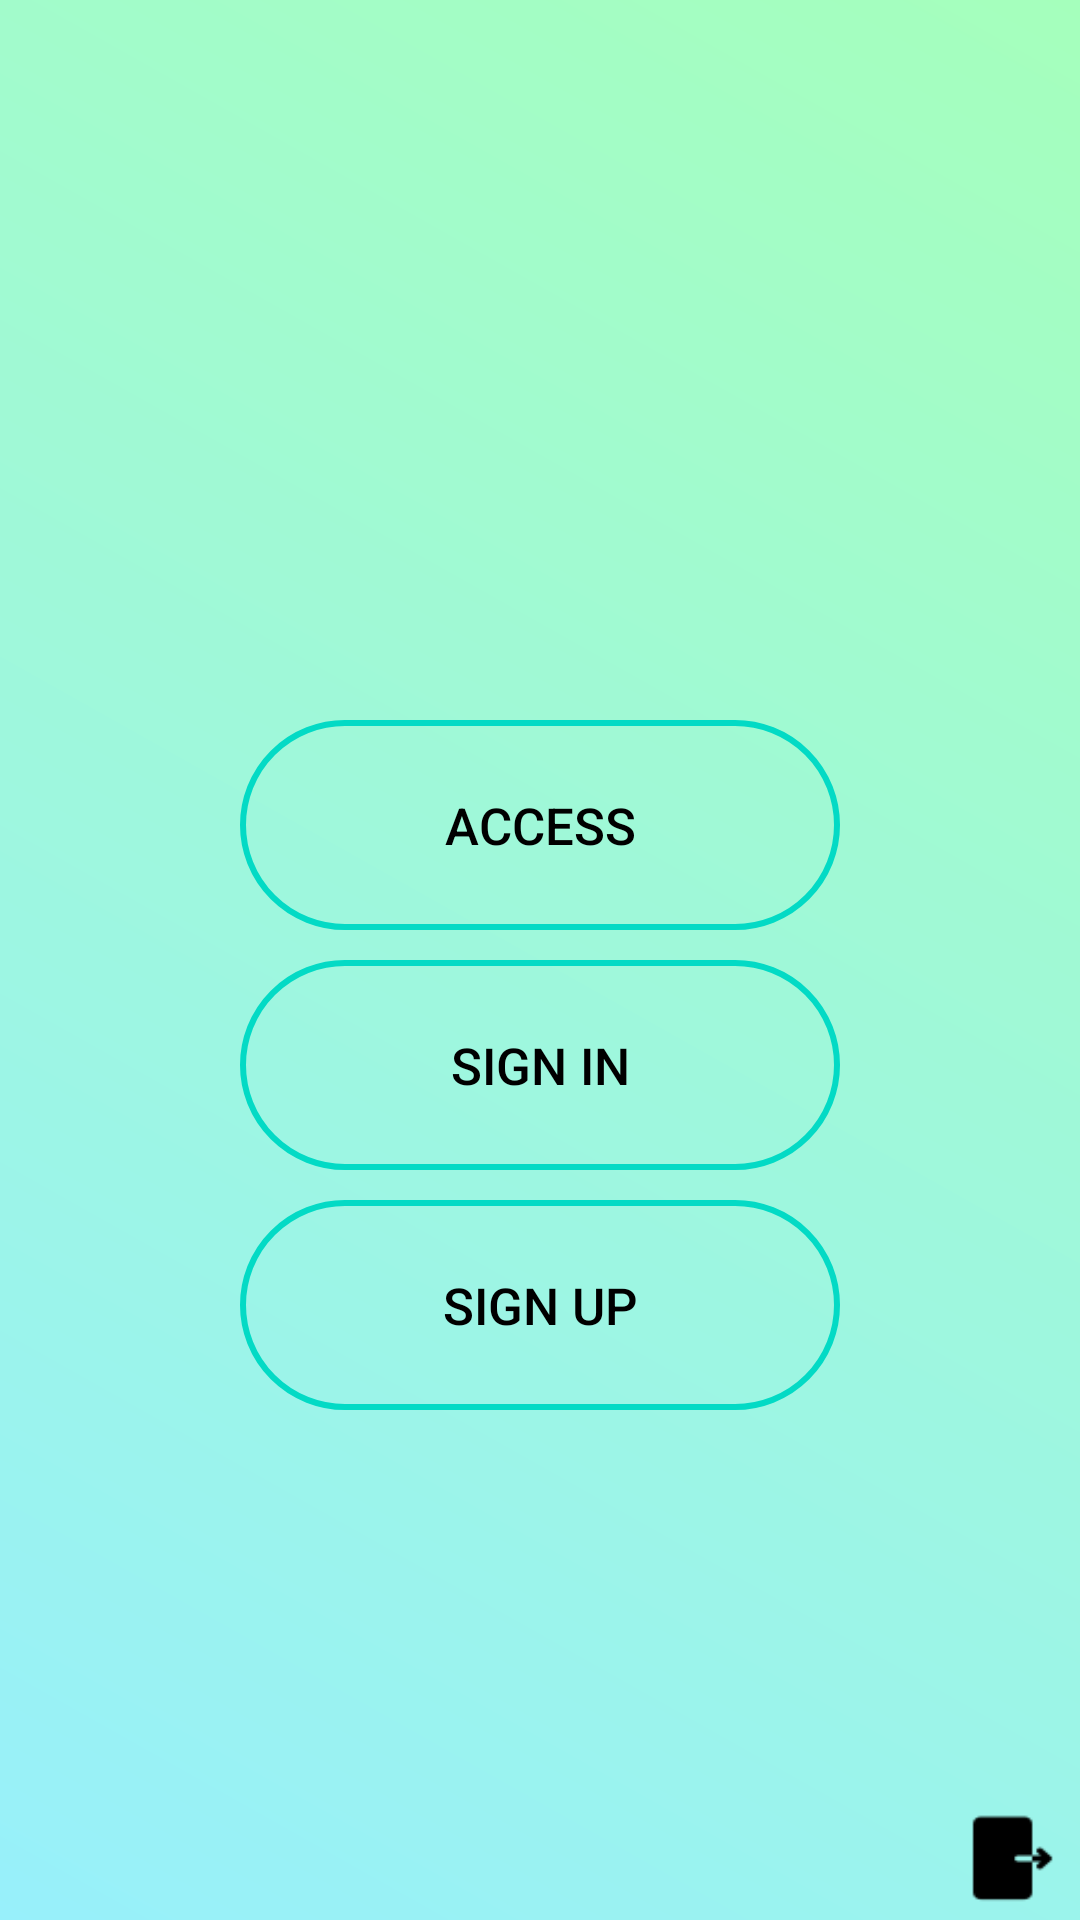

Locate icon controls on the screen. Image size 1080×1920, boxes as (x1, y1, x2, y2).
exit: (972, 1815, 1053, 1901)
